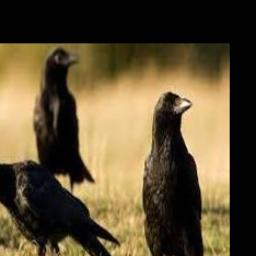Crow: (0, 159, 120, 256), (142, 91, 205, 256), (34, 47, 95, 196)
